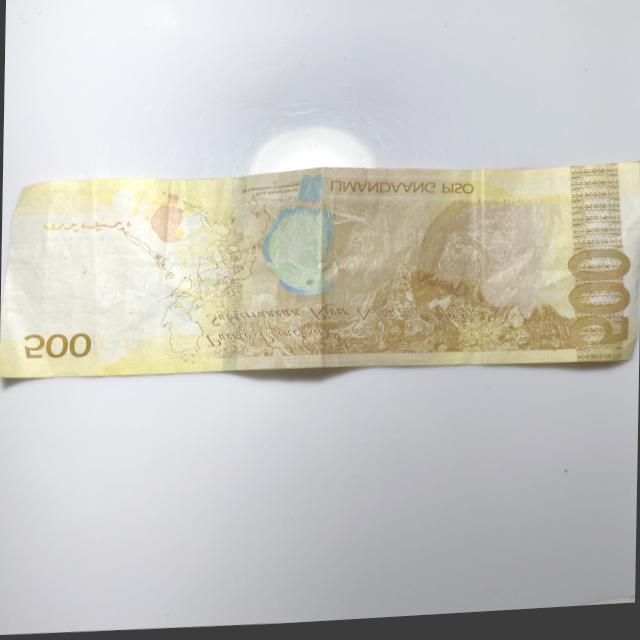500_big_parrot: (257, 173, 350, 302)
500_parrot_watermark: (141, 192, 195, 248)
value_watermark: (29, 250, 56, 282)
